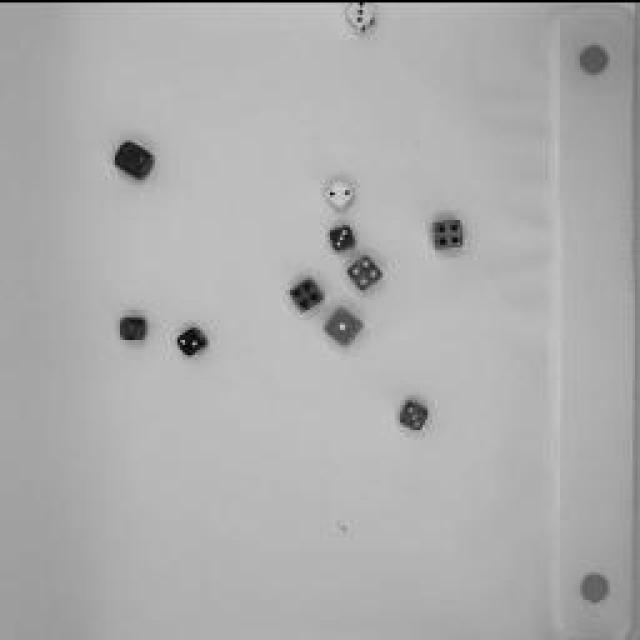dice_1: (321, 305, 369, 345)
dice_2: (112, 138, 160, 178), (325, 175, 357, 210), (178, 322, 208, 352)
dice_3: (398, 395, 434, 430), (345, 0, 380, 32), (328, 220, 362, 250)
dice_4: (431, 212, 469, 252), (285, 275, 325, 310), (347, 255, 385, 290), (118, 312, 148, 340)
